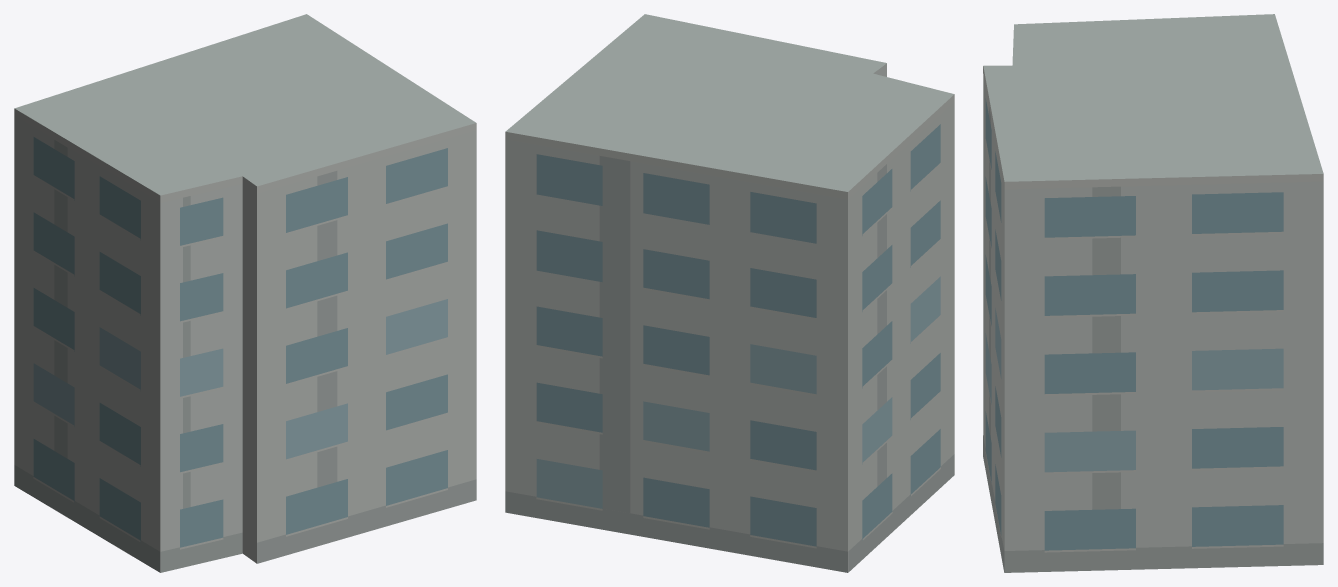
Rendered from survey-upis-32537218.glb.
The picture shows the model from 3 angles, left to right: view 1: azimuth 30°, elevation 25°; view 2: azimuth 150°, elevation 25°; view 3: azimuth 270°, elevation 25°; orthographic projection. The views are drawn at different scales.
Parts seen in each view (by area): view 1: survey-upis-32537218.tmp; view 2: survey-upis-32537218.tmp; view 3: survey-upis-32537218.tmp.
Boxes of the visible parts, x1=… form: survey-upis-32537218.tmp: x1=14, y1=14, x2=476, y2=572; survey-upis-32537218.tmp: x1=505, y1=14, x2=954, y2=572; survey-upis-32537218.tmp: x1=983, y1=14, x2=1323, y2=572.
Bounding box in the file's own units: 11.45 × 12.43 × 9.82.
